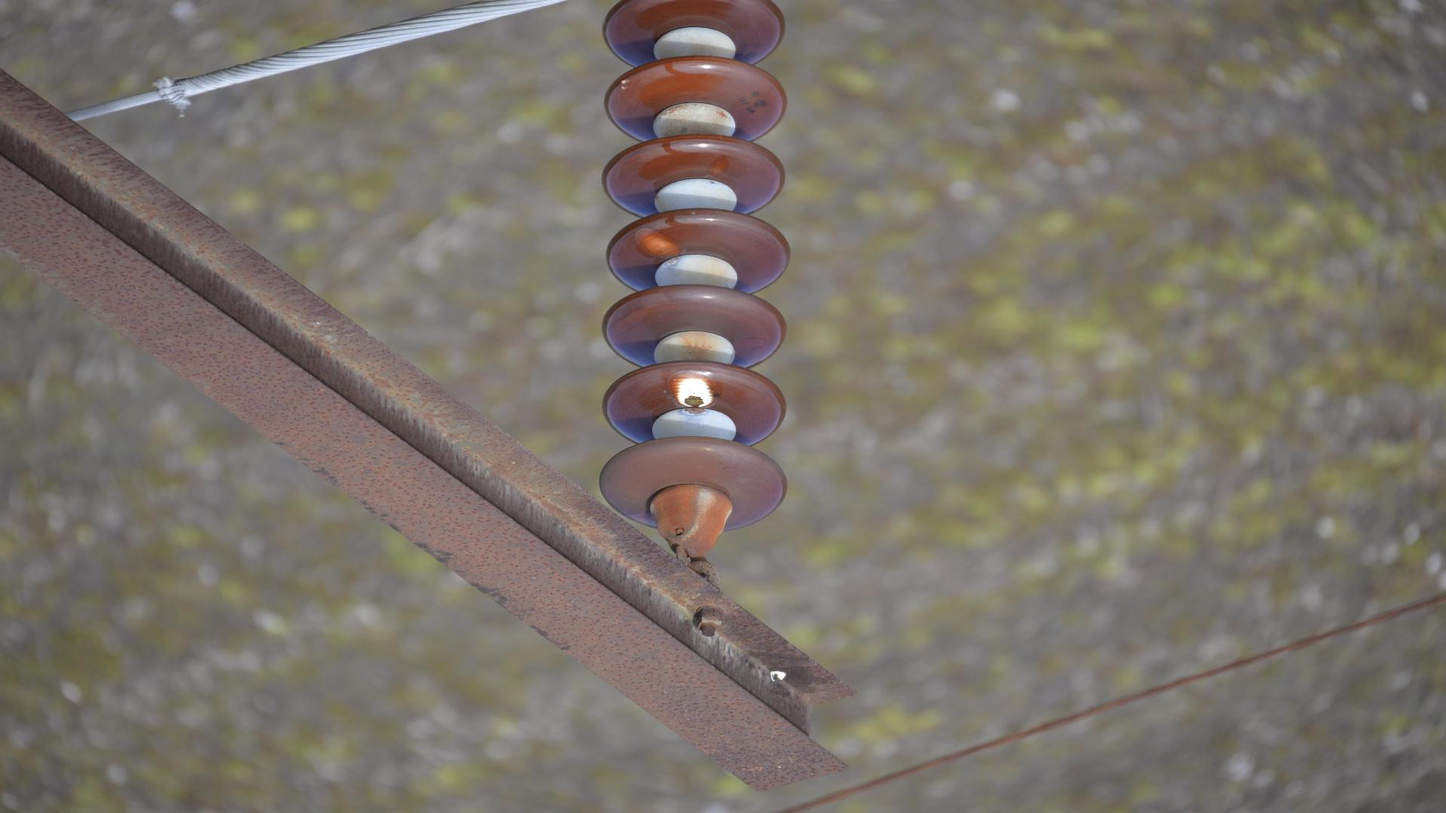insulator: (591, 1, 794, 539)
insulator_flashover: (632, 225, 687, 262), (674, 373, 715, 410)
